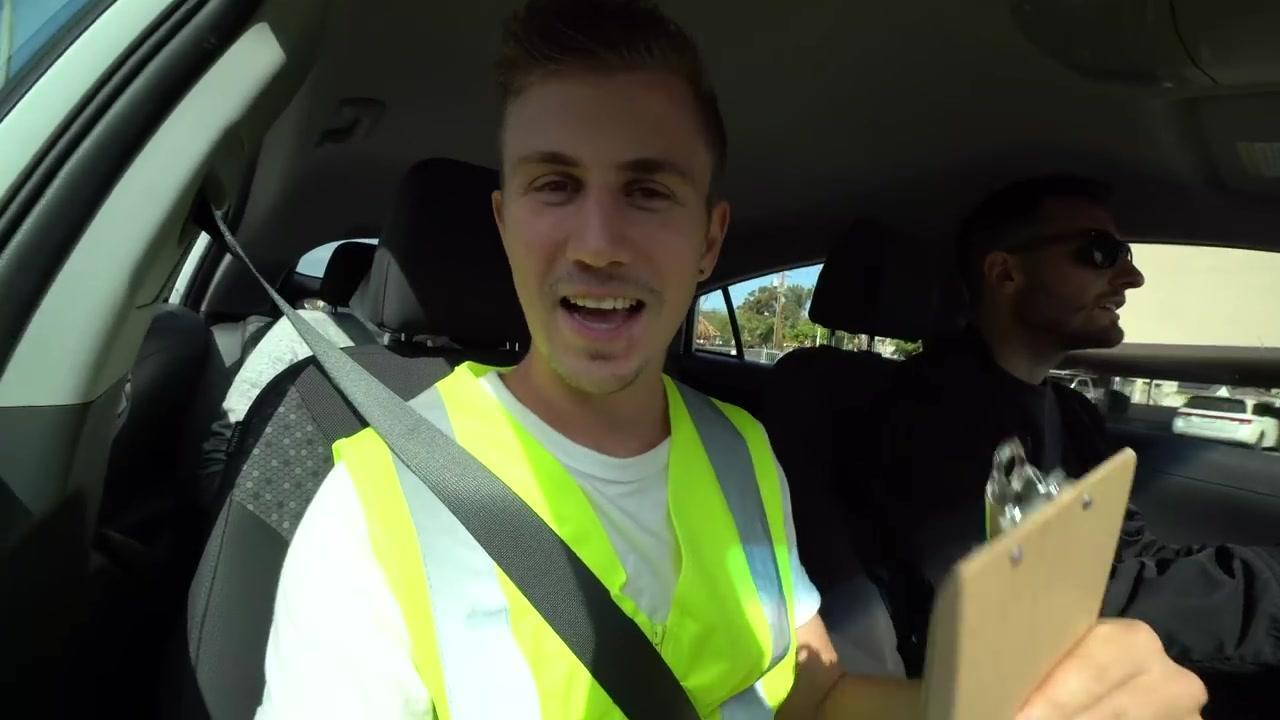vest: (328, 359, 796, 719)
